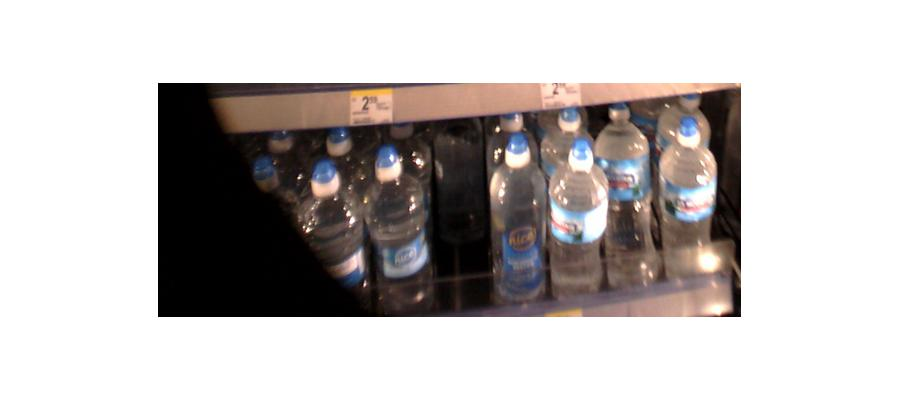bottle: (295, 130, 366, 295), (365, 135, 431, 312), (656, 105, 716, 285), (601, 108, 656, 287), (493, 124, 546, 300), (552, 126, 607, 295), (433, 129, 488, 289)
